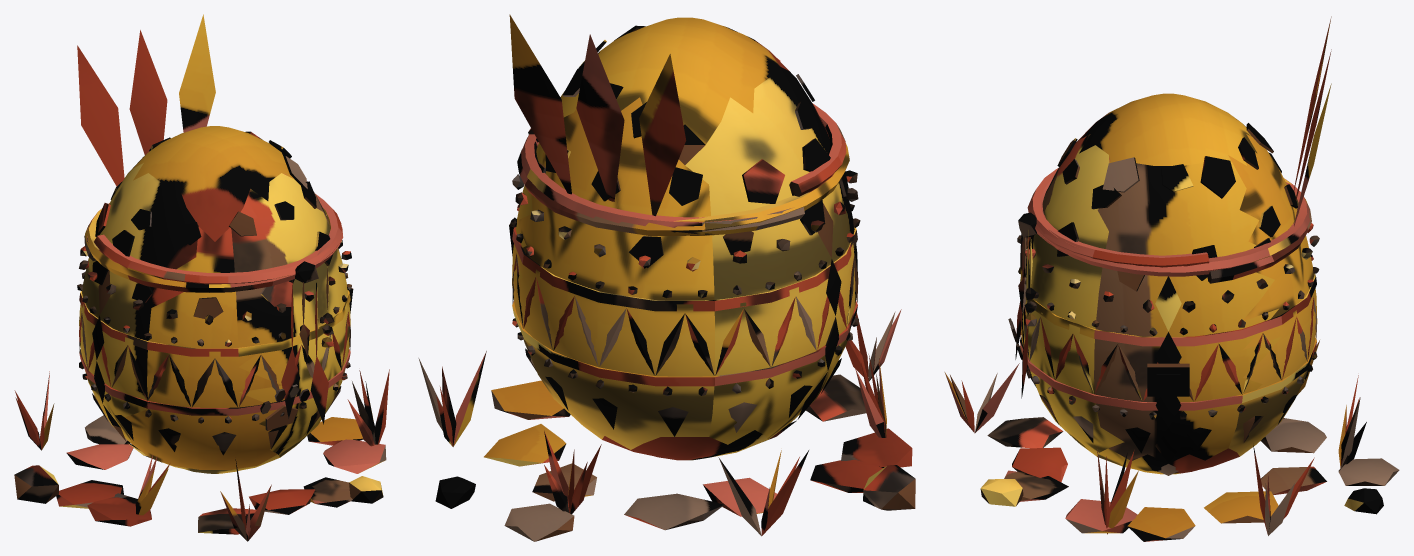
The model's file is egg_safari.fbx.
3 renders of one model, left to right at view 1: azimuth 30°, elevation 25°; view 2: azimuth 150°, elevation 25°; view 3: azimuth 270°, elevation 25°, orthographic. The views are drawn at different scales.
Visible parts, largest first — view 1: egg_safari_body; view 2: egg_safari_body; view 3: egg_safari_body.
Part boxes in pixels (bbox=[...]): egg_safari_body: bbox=[14, 14, 389, 541]; egg_safari_body: bbox=[418, 14, 915, 541]; egg_safari_body: bbox=[944, 16, 1399, 541].
Bounding box in the file's own units: 337 × 349 × 343.
1 material, 1 textured.
